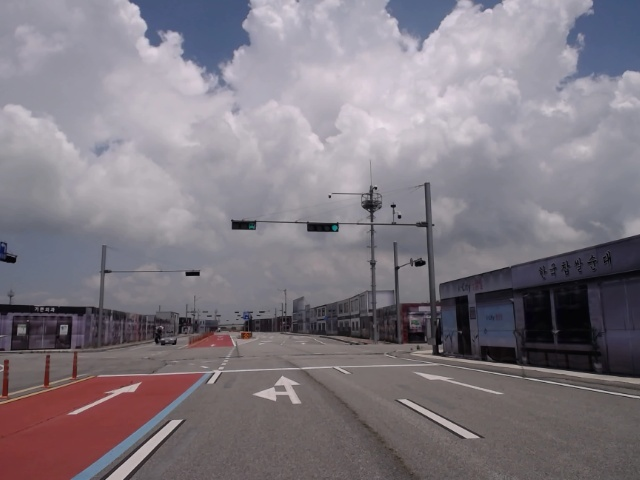straight_green_4: (308, 223, 341, 234)
